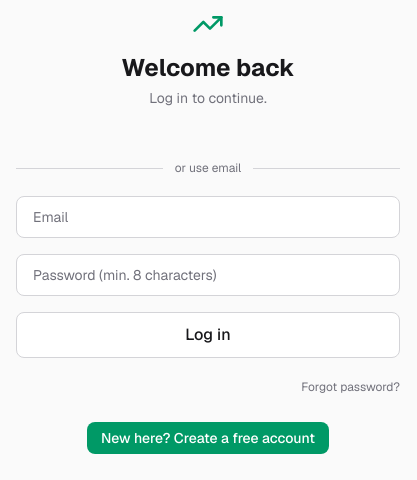
it: /auth page › toggles to register mode when the CTA is clicked
Click the button "New here? Create a free account".
click(208, 438)  # box [87,422,329,454]
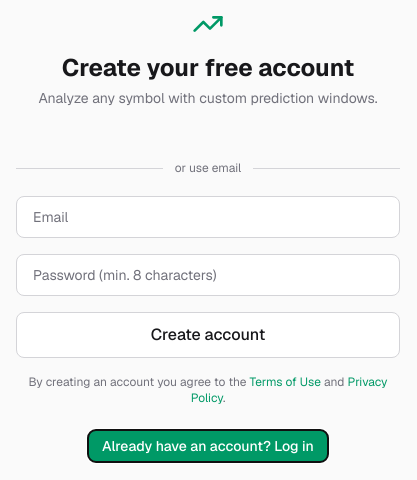
Expected: the heading "Create your free account" is shown, [62,52,354,83]
Expected: the button "Create account" is shown, [16,312,400,358]
Expected: the button "Already have an account? Log in" is shown, [88,430,328,462]
